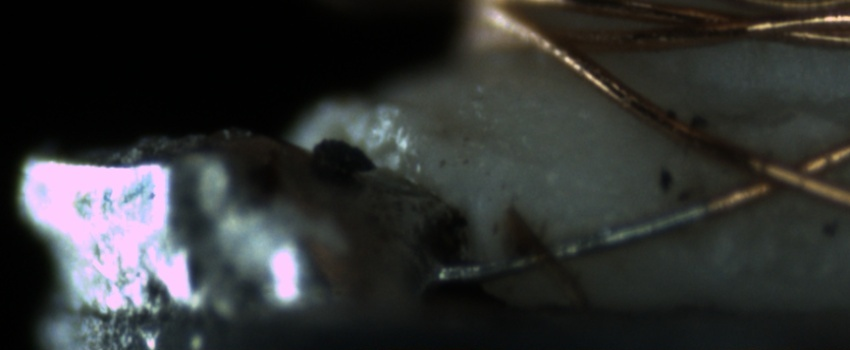CL: (694, 126, 846, 213)
TS: (437, 205, 712, 280)
